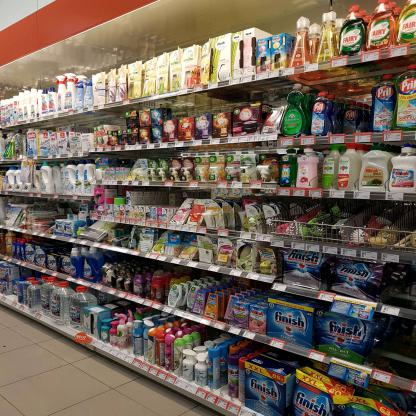Void: (378, 323, 411, 374), (151, 191, 175, 203), (114, 190, 124, 196)
